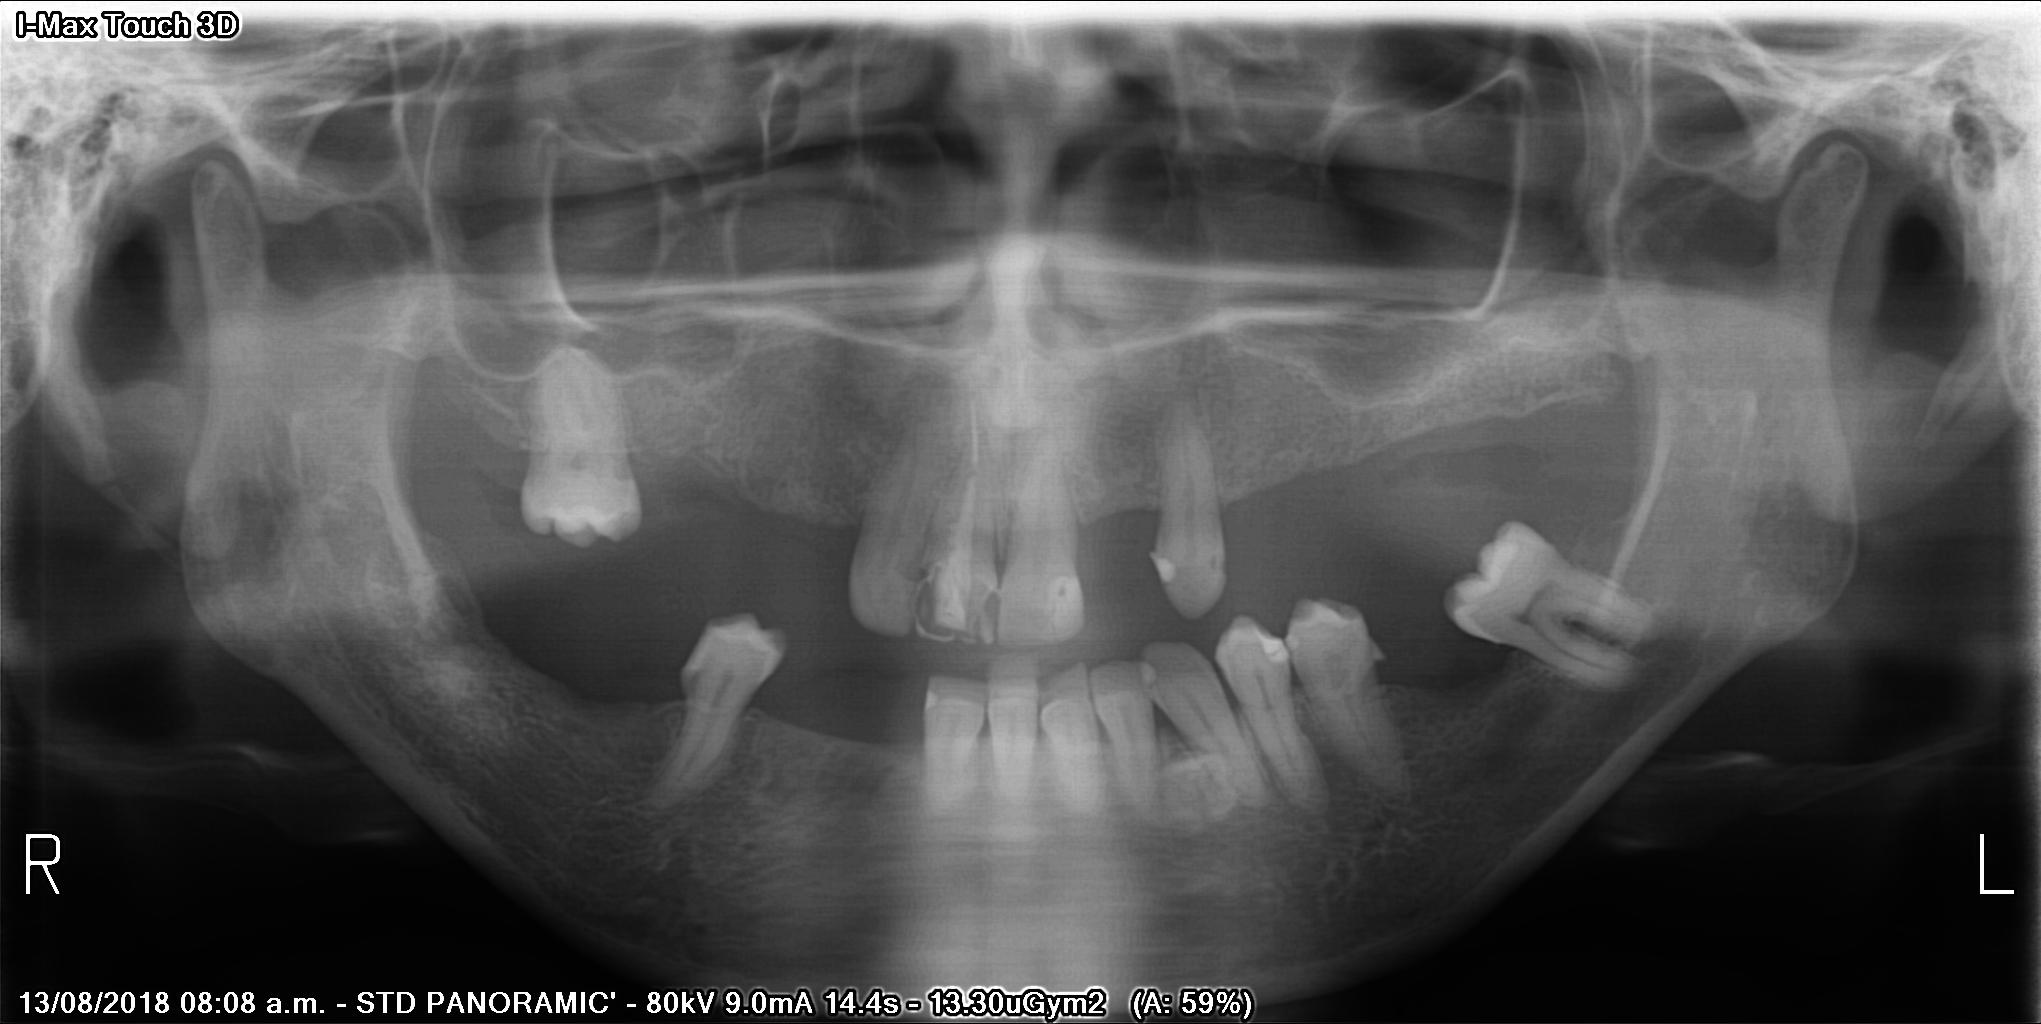Çürük: (1256, 623, 1290, 670), (1156, 551, 1177, 585)
Çürük Bölgesi: (952, 589, 996, 643), (911, 568, 941, 636)
